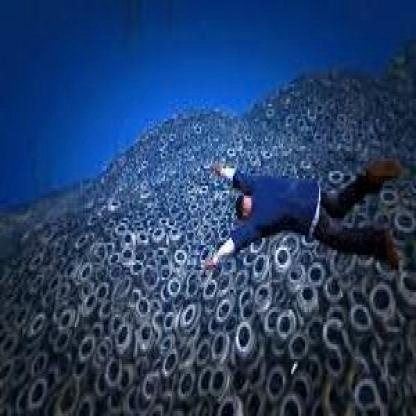tire: (273, 310, 327, 372), (364, 282, 400, 332), (230, 312, 261, 366), (116, 327, 152, 369), (140, 265, 172, 302), (278, 243, 303, 287), (30, 304, 52, 336)
